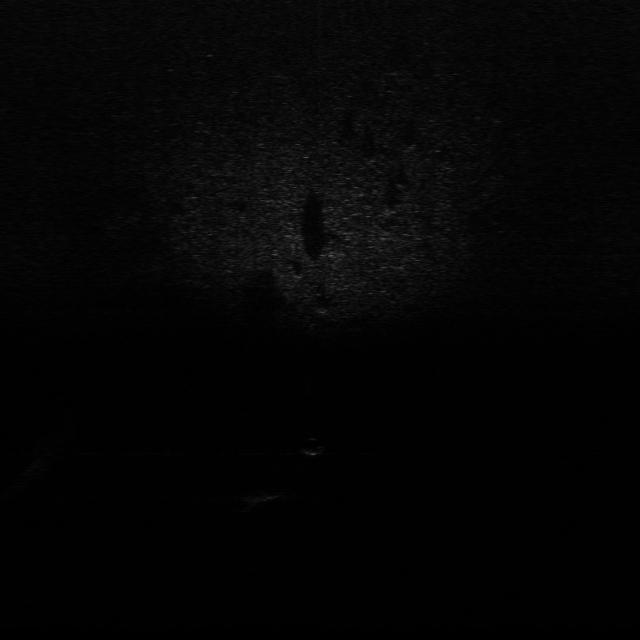ball: (296, 437, 326, 458)
square cage: (242, 488, 297, 504)
